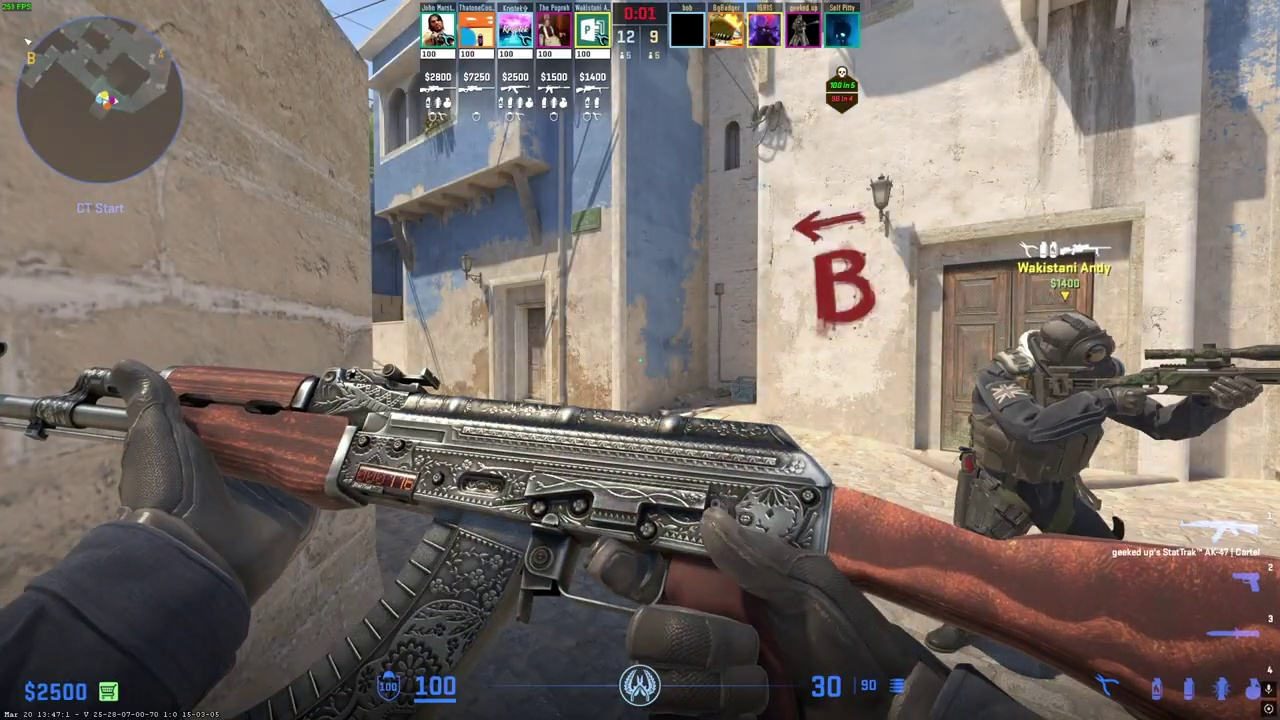CT: (957, 313, 1145, 537)
